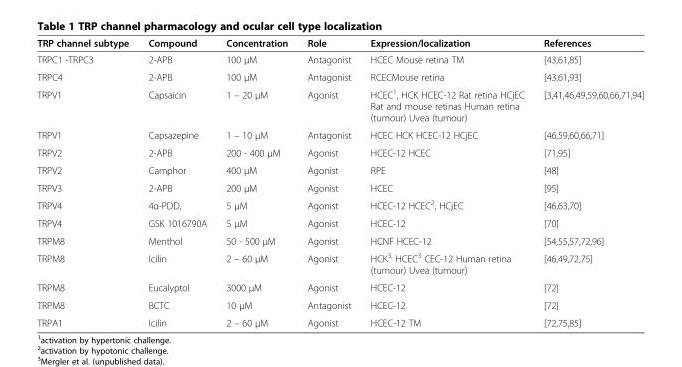table: (36, 36, 643, 328)
table column: (360, 36, 533, 328), (533, 36, 643, 328), (36, 36, 137, 328), (215, 36, 296, 328), (137, 36, 215, 328), (296, 36, 360, 328)
table column header: (36, 36, 643, 50)
table row: (36, 84, 643, 125), (36, 248, 643, 277), (36, 125, 643, 143), (36, 160, 643, 178), (36, 195, 643, 213), (36, 213, 643, 231), (36, 277, 643, 295), (36, 295, 643, 313), (36, 50, 643, 67), (36, 67, 643, 84), (36, 143, 643, 160), (36, 178, 643, 195), (36, 231, 643, 248), (36, 313, 643, 328), (36, 36, 643, 50)
